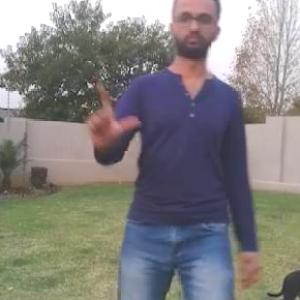land_hand: (78, 74, 136, 158)
